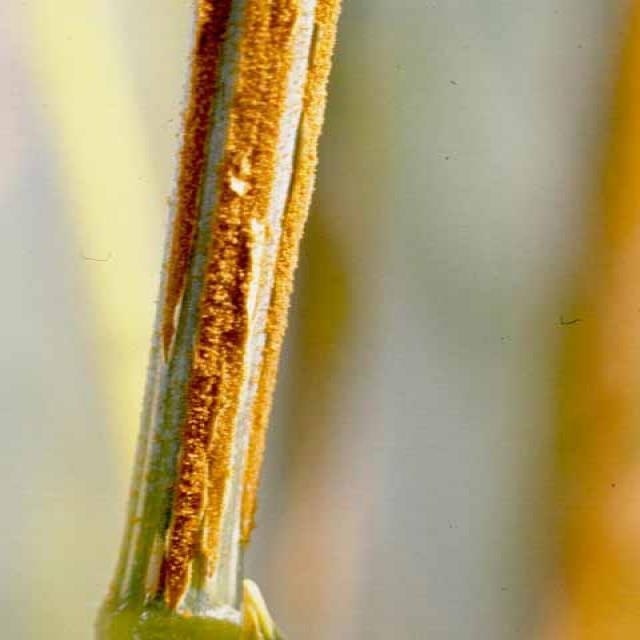Stem Rust: (177, 0, 328, 626)
